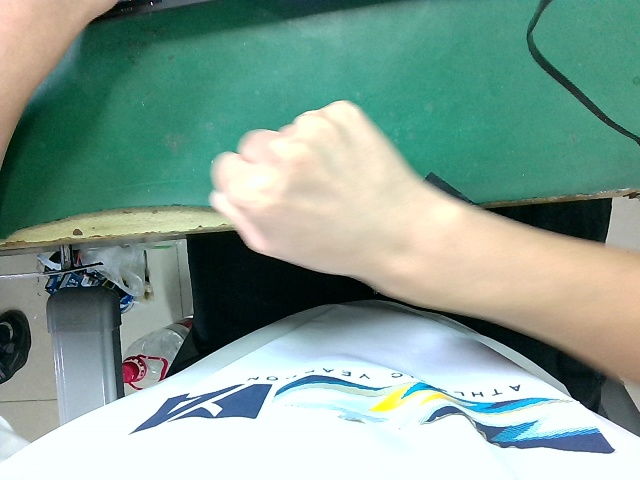stone: (181, 87, 435, 291)
